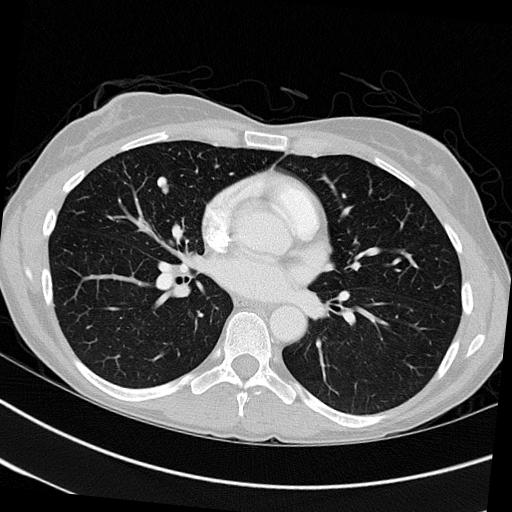nodule: (153, 175, 172, 194)
